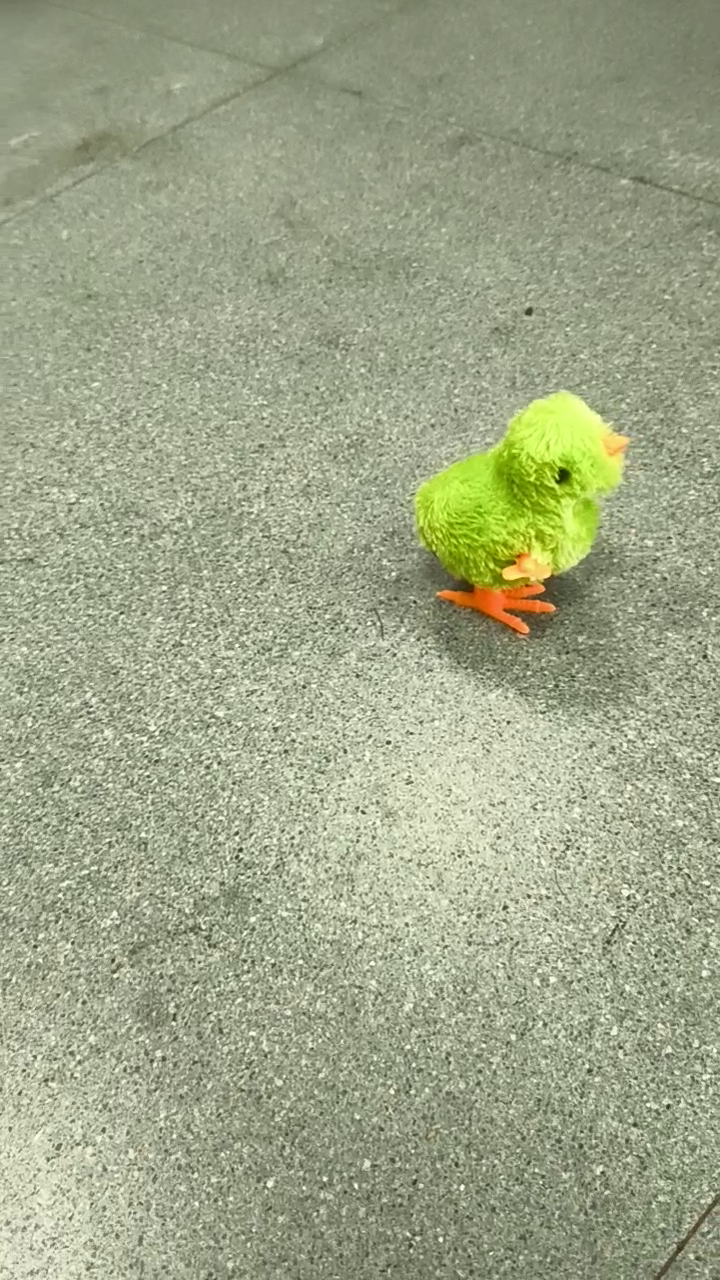green chicken: (408, 385, 634, 640)
